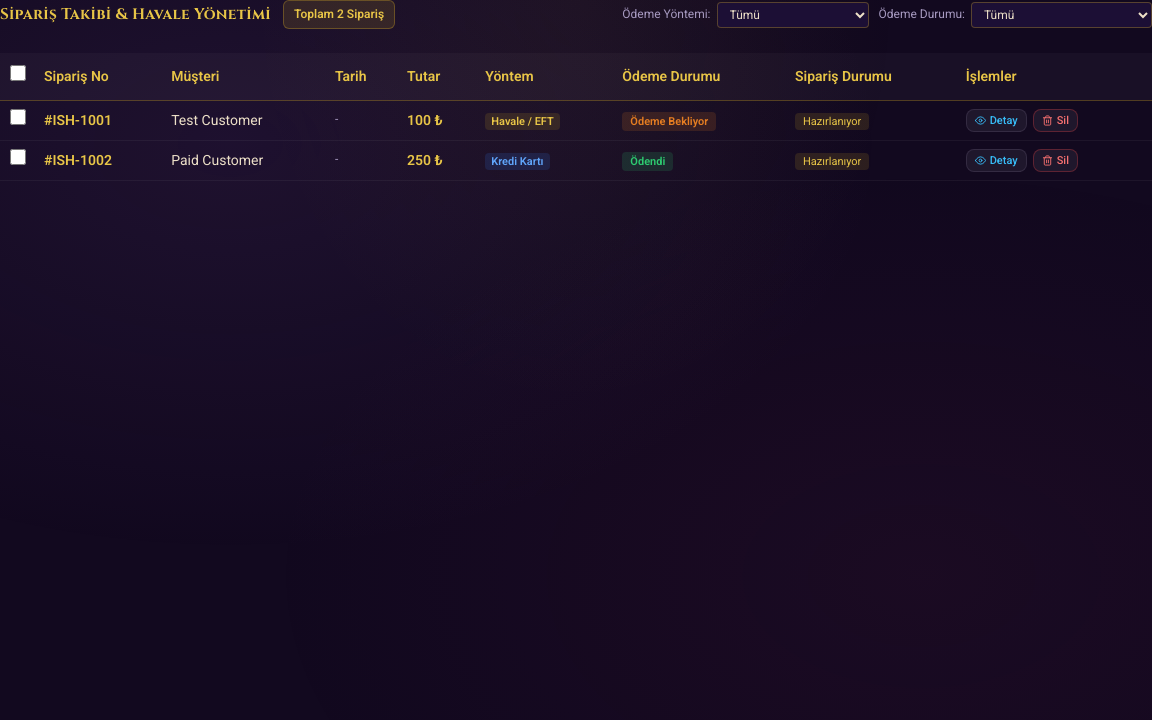
Test: OrdersSection component › deletes an unpaid order from backend and removes it from UI after confirmation
Expected: the text "#ISH-1001" is shown, x1=36 y1=100 x2=163 y2=140
Note: Click single delete button for ISH-1001
Click the button "Sil" in the row of "ISH-1001": (1055, 120) x1=1033 y1=109 x2=1078 y2=132
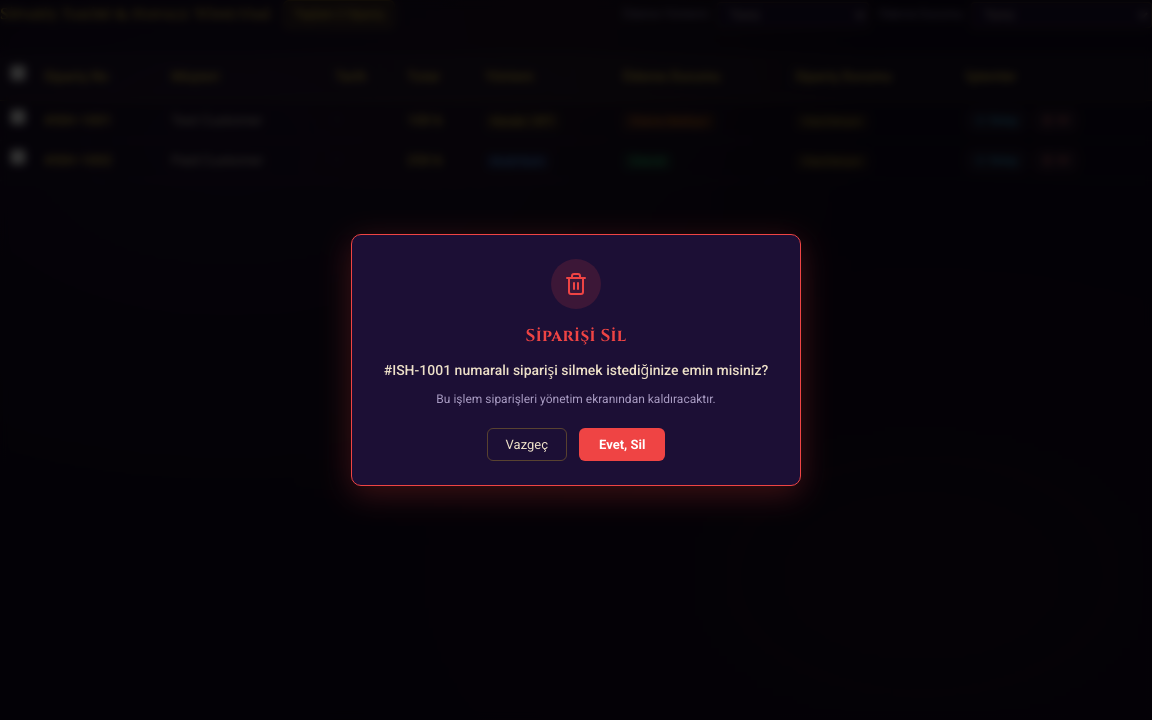
Expected: the heading "Siparişi Sil" is shown, x1=526 y1=324 x2=626 y2=346
Expected: the text "#ISH-1001 numaralı siparişi silmek istediğinize emin misiniz" is shown, x1=384 y1=362 x2=768 y2=378
Note: Click confirm "Evet, Sil"
Click the button "Evet, Sil": (622, 445) x1=579 y1=428 x2=665 y2=461
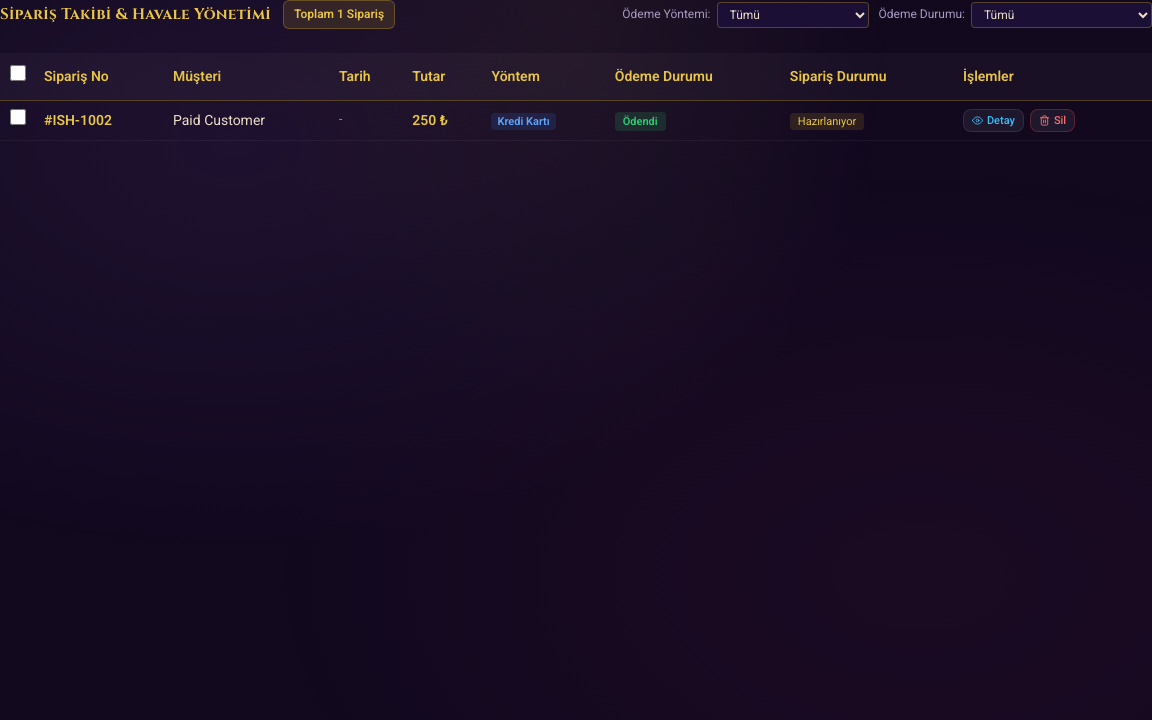
Expected: the text "#ISH-1001" is gone
